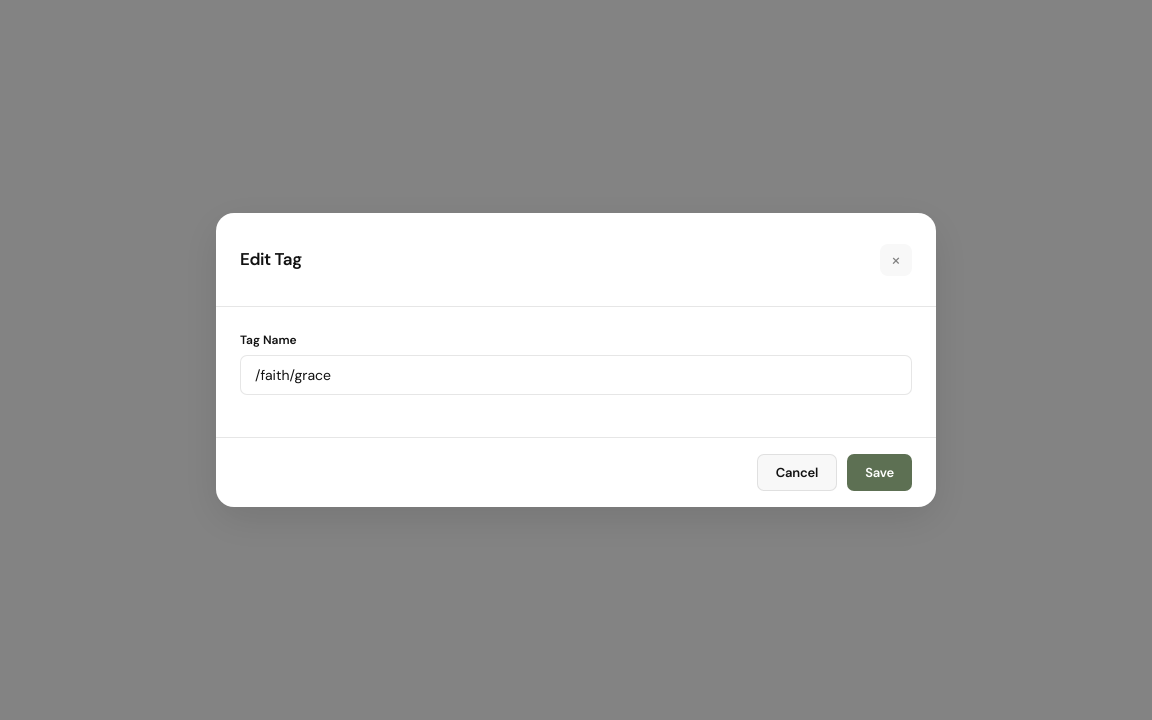
Test: keeps rename validation visible and the requested name intact on failure
The image size is (1152, 720).
Replace the text in the field with placeholder "e.g. forgiveness" with "still editing". click: (576, 375)
box: [240,355,912,395]
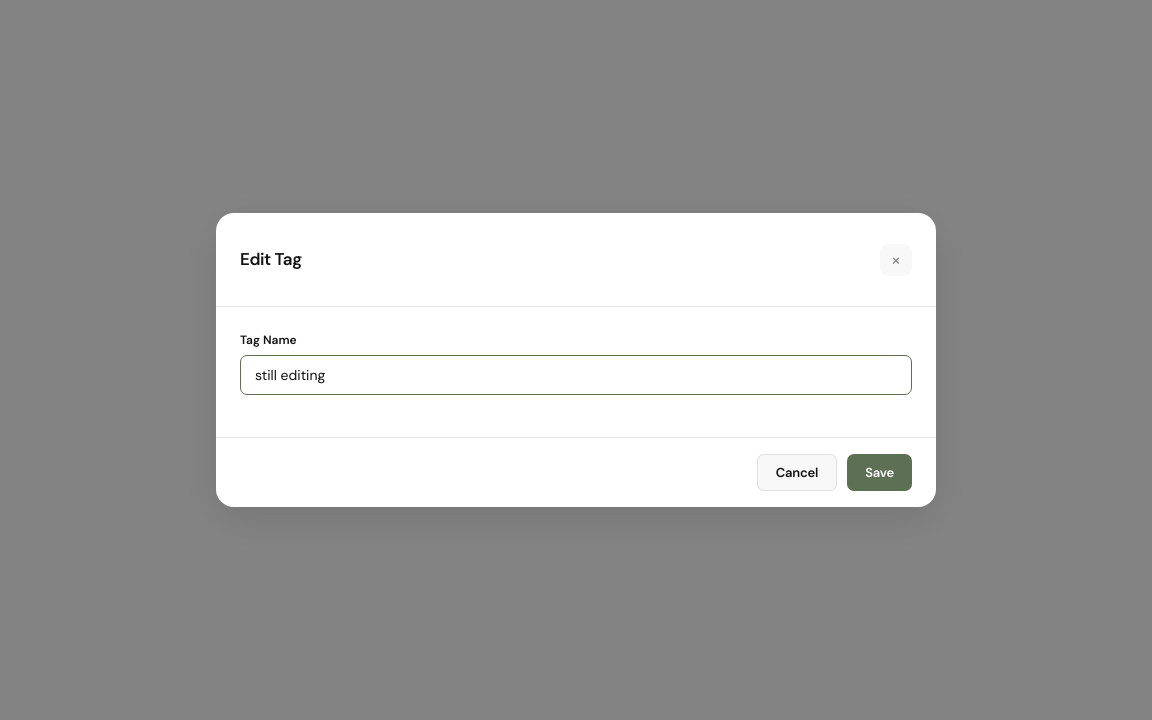
Click the button "Save". click: (880, 473)
box: [847,454,912,491]
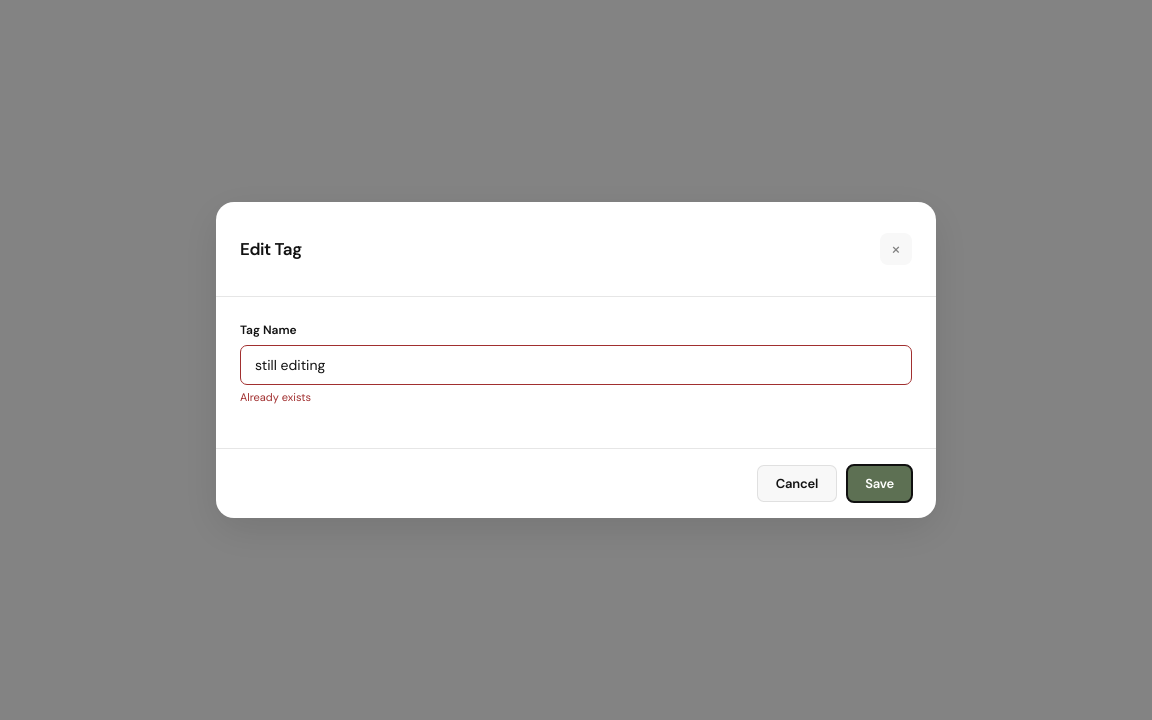
Now the text "Already exists" is shown, box [240,390,311,404]
